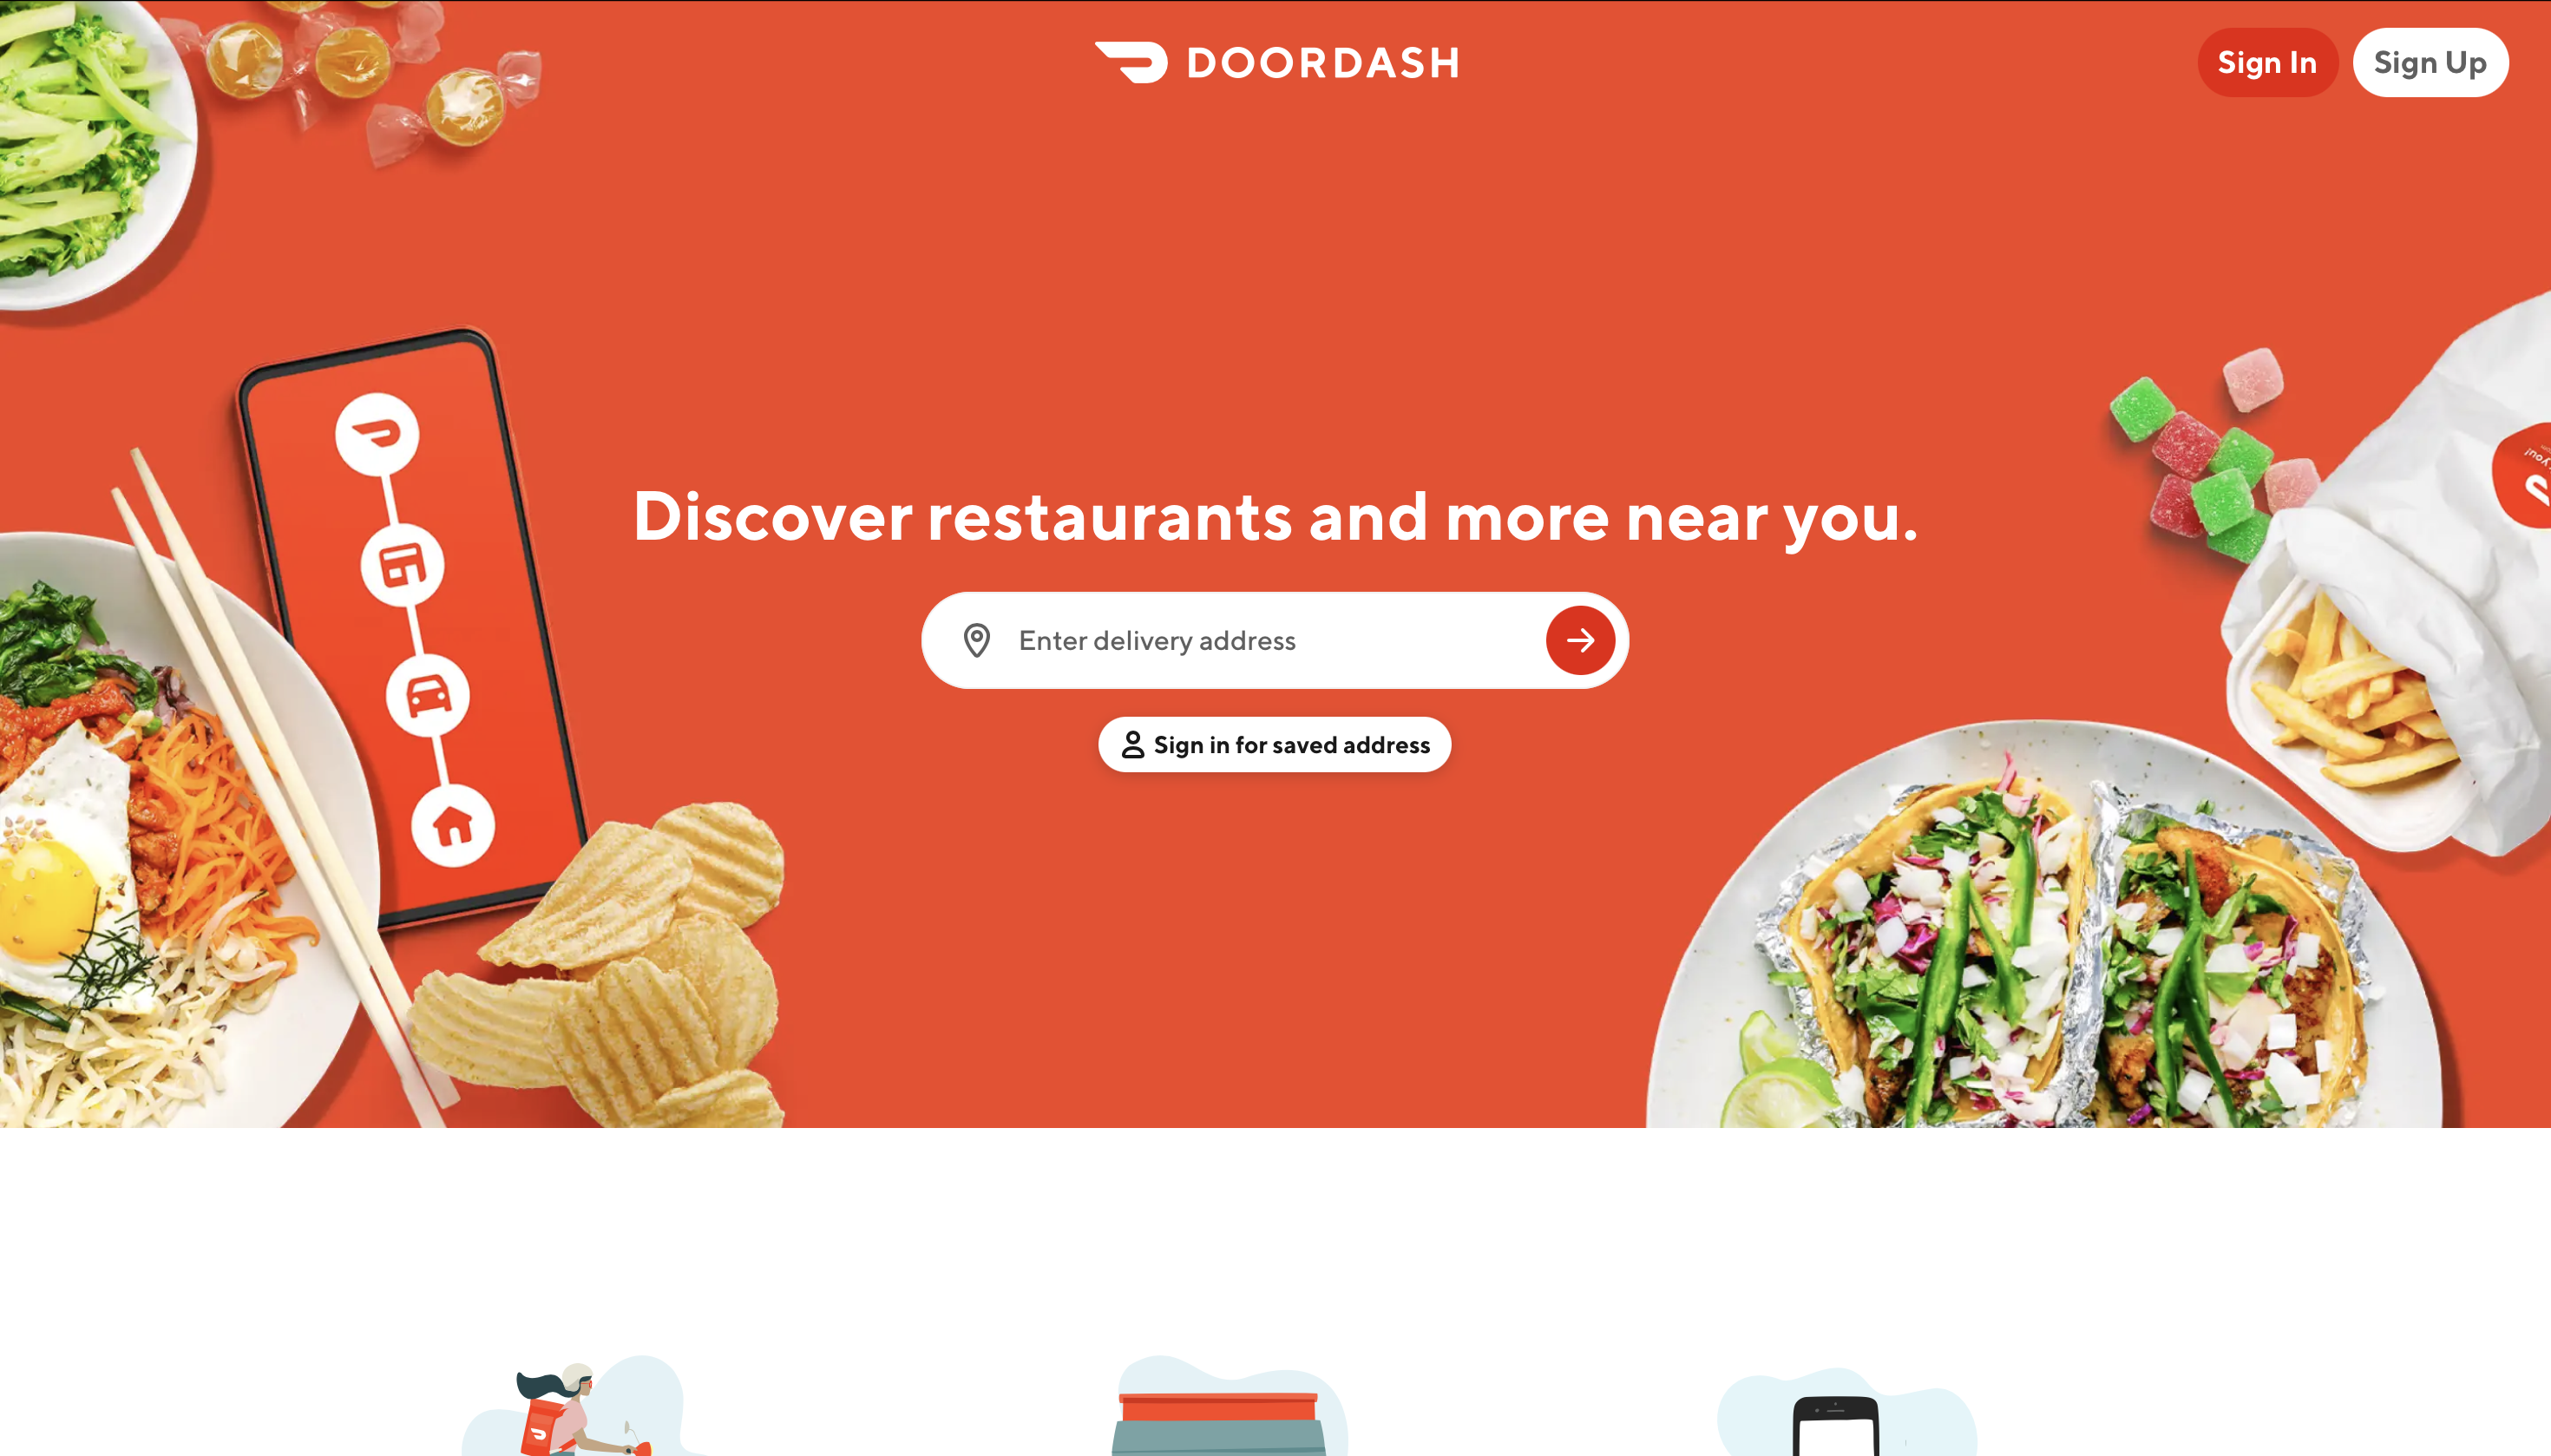continue_button: (1535, 601, 1628, 685)
delivery_address: (890, 576, 1656, 706)
signin: (2197, 28, 2337, 98)
signup: (2350, 26, 2509, 103)
